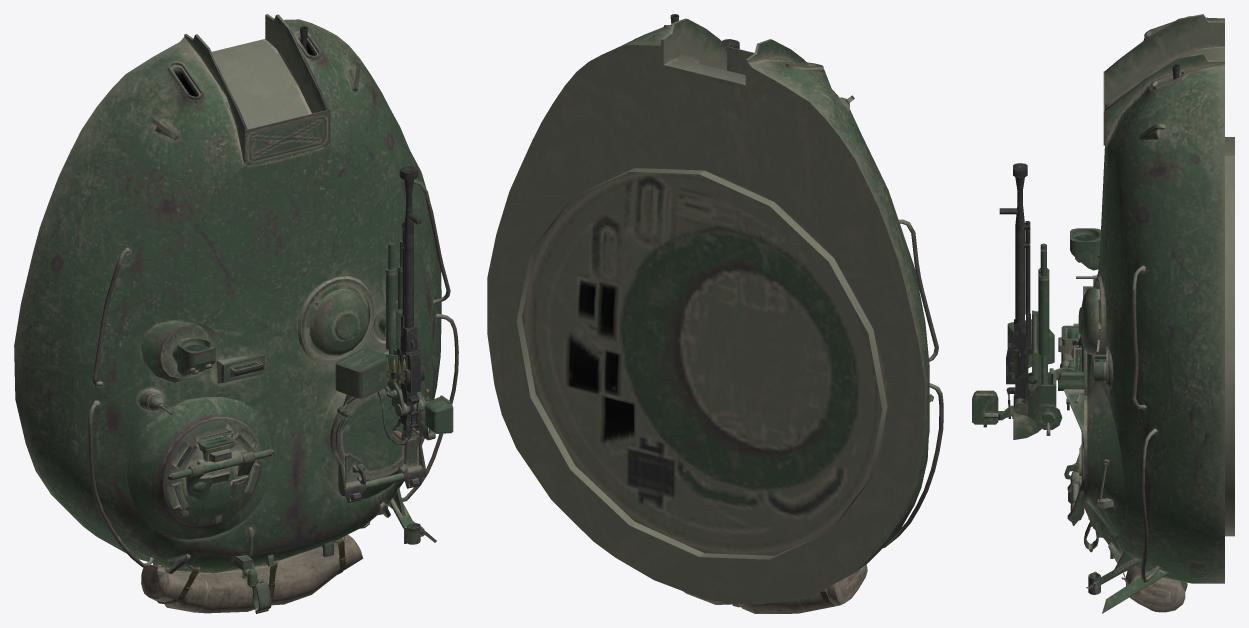
Rendered from Turret_01.glb.
3 views of the same model, side by side, from view 1: azimuth 30°, elevation 25°; view 2: azimuth 150°, elevation 25°; view 3: azimuth 270°, elevation 25° (orthographic). The views are drawn at different scales.
Parts seen in each view (by area): view 1: set_0_group_0; view 2: set_0_group_0; view 3: set_0_group_0.
Boxes of the visible parts, box(x1,y1,x2,y2) form: set_0_group_0: box(14, 14, 458, 613); set_0_group_0: box(487, 14, 943, 613); set_0_group_0: box(972, 14, 1234, 613).
Bounding box in the file's own units: 2.65 × 3.39 × 1.45.
Materials: 1 (1 with a texture image).
